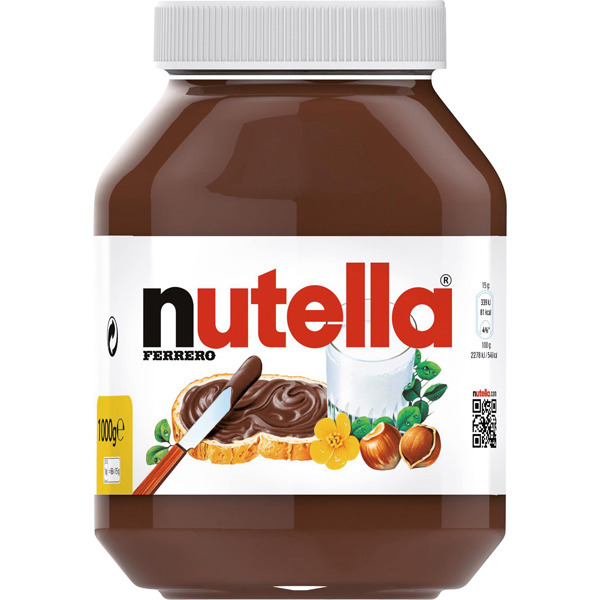nutella: (90, 1, 506, 599)
